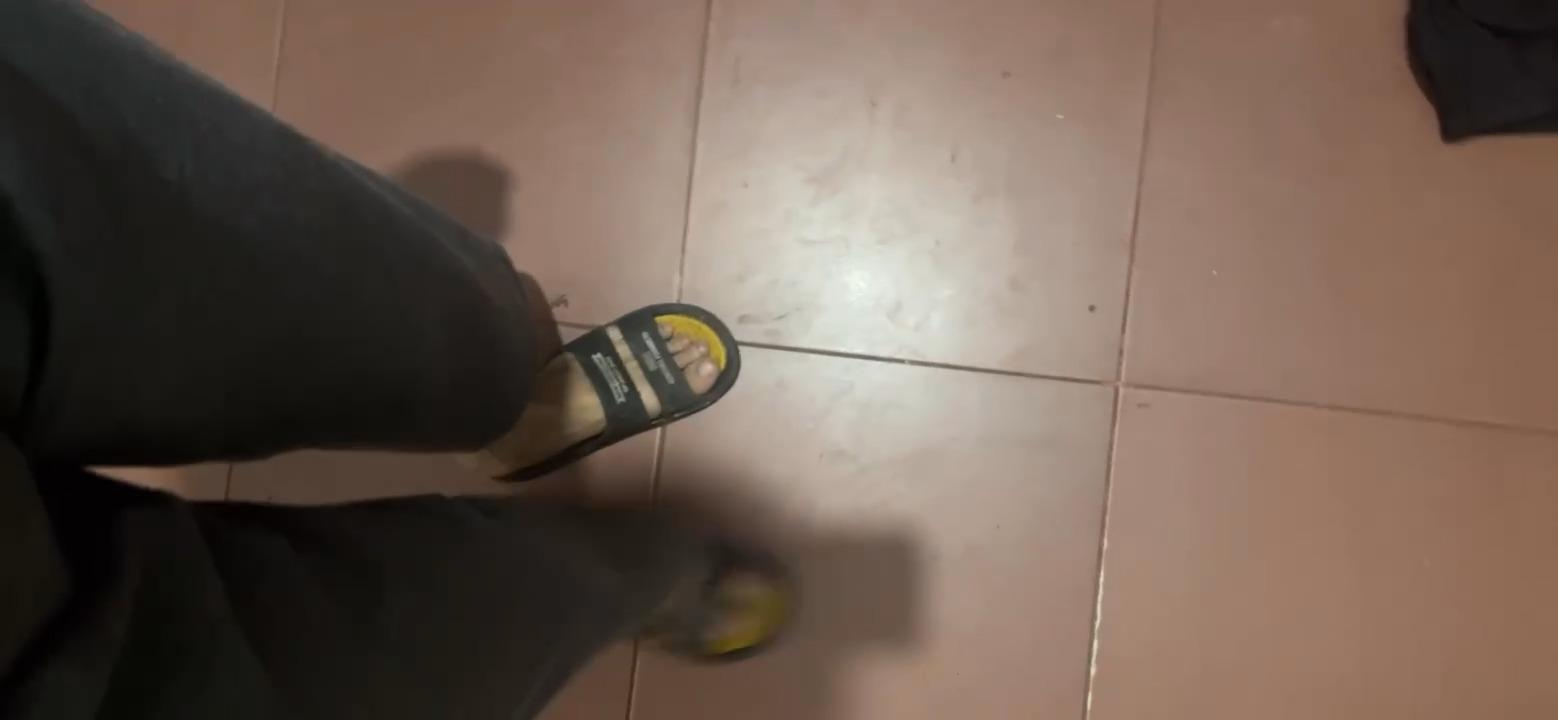no-boot: (473, 309, 757, 481)
